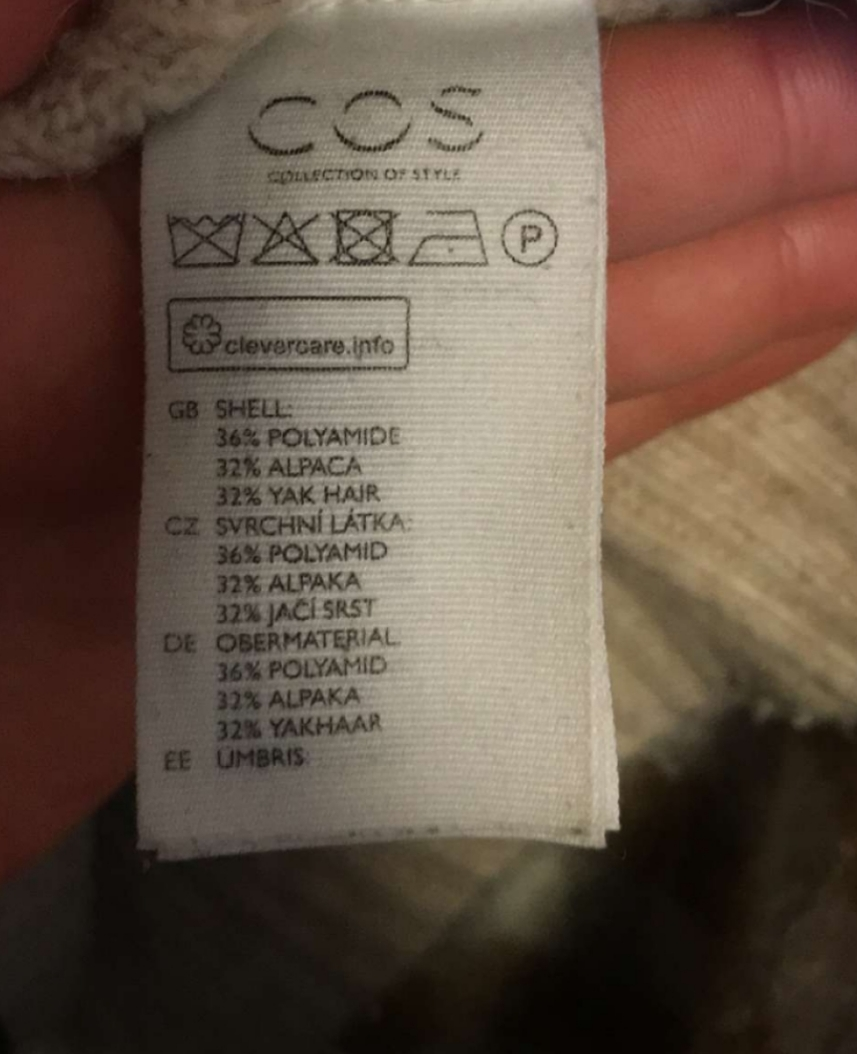do not bleach: (257, 190, 323, 275)
do not machine wash: (147, 194, 256, 285)
do not tumble dry: (328, 201, 412, 278)
dry clean: (490, 192, 574, 281)
iron low temp: (404, 200, 502, 280)
